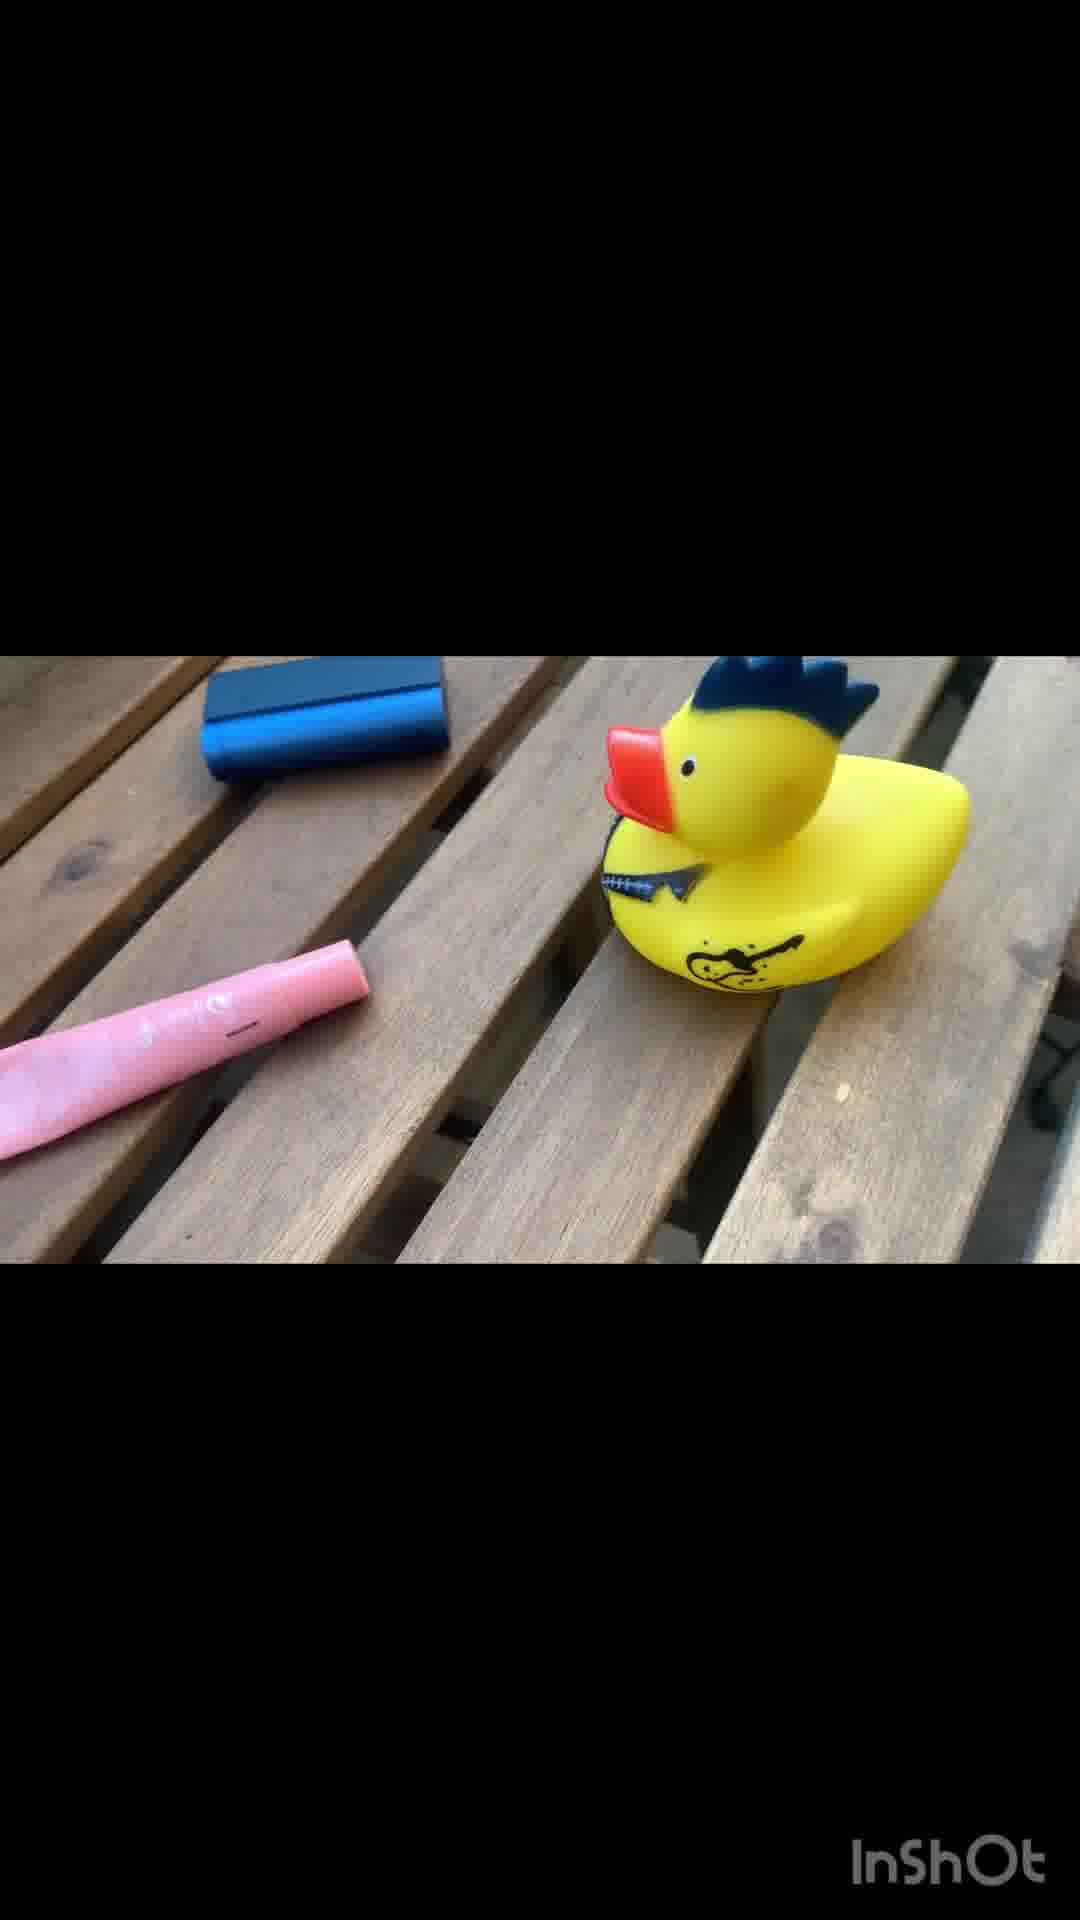duck: (589, 659, 980, 993)
glo: (182, 654, 473, 769)
lip balm: (1, 934, 382, 1159)
